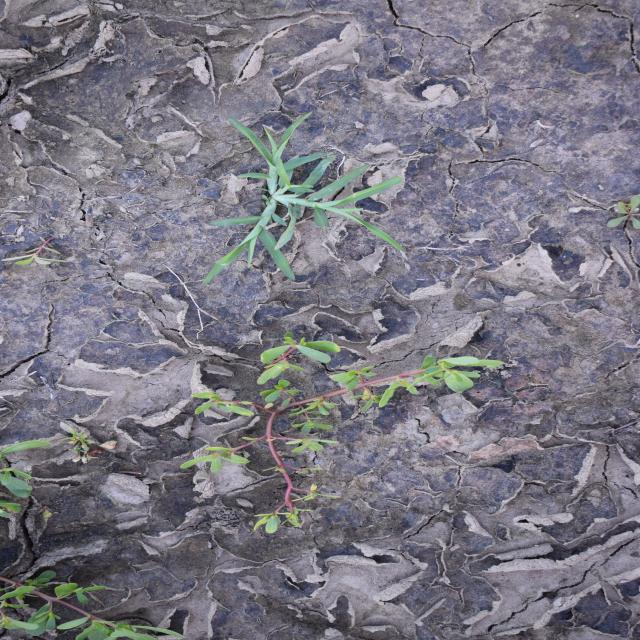Carpetweed: (605, 192, 639, 234)
Goosegrass: (198, 110, 412, 286)
Purslane: (177, 336, 508, 536), (1, 569, 188, 639)
